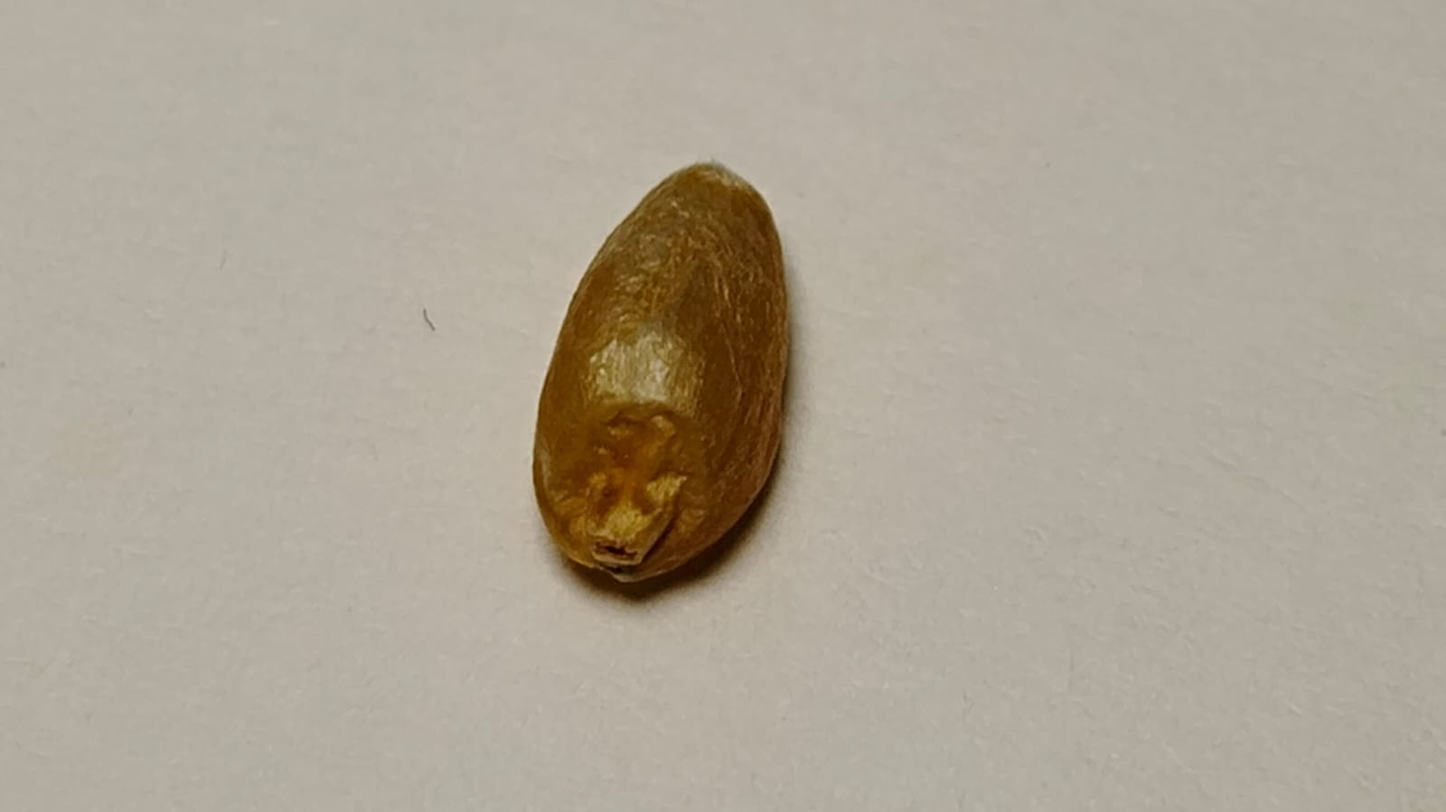healthy: (534, 163, 789, 580)
